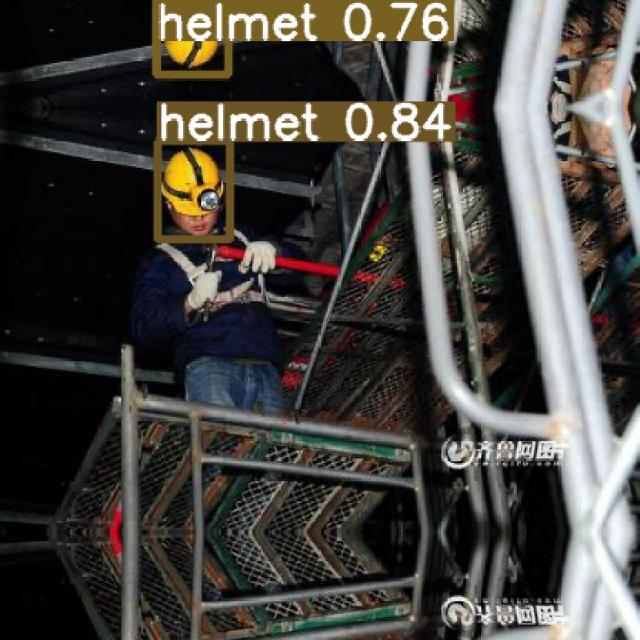Helmet: (160, 146, 223, 217)
